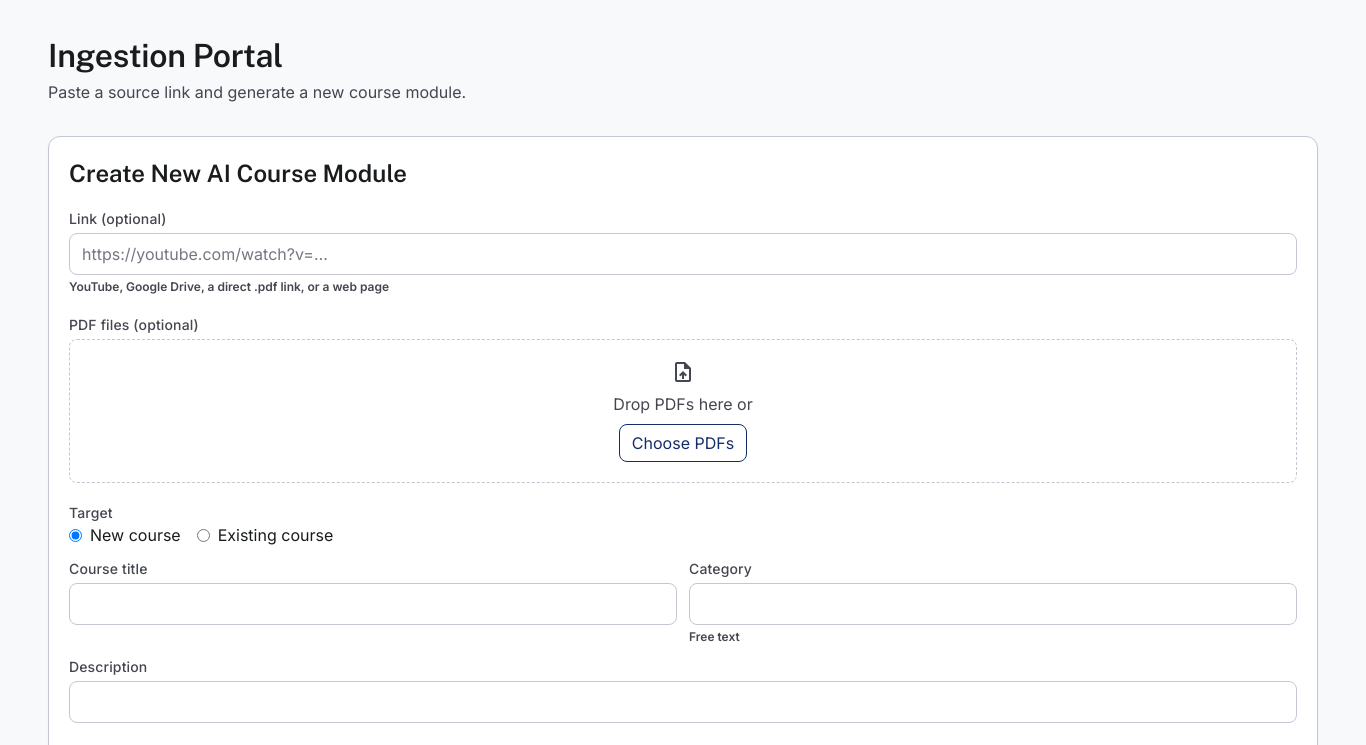
Scenario: IngestionPage PDF sources › still validates a non-empty link
This screenshot has width=1366, height=745.
Step 1. Type "not a url" into the field labelled "Link (optional)" → x=683, y=254, box top-left (69, 233), bottom-right (1297, 275)
(page scrolled)
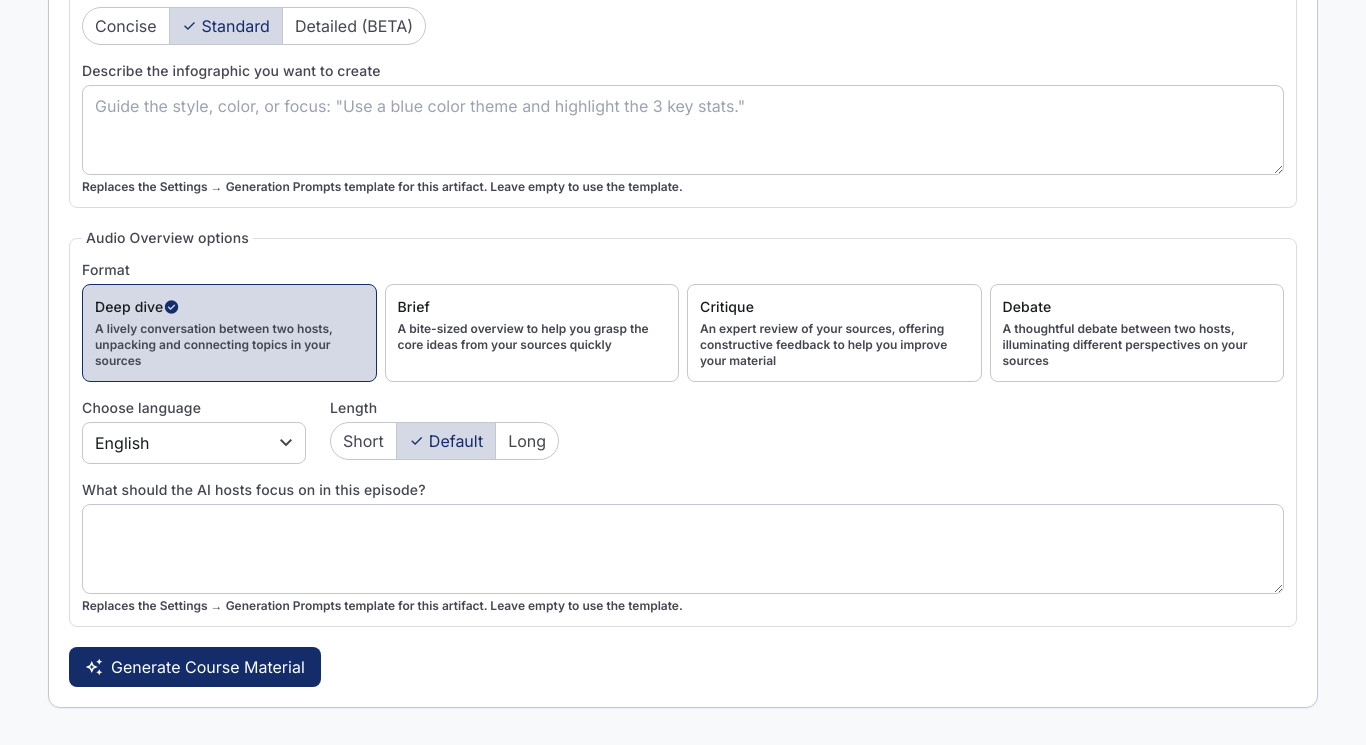
Step 2. Click the button with test id "btn-ig6" → x=195, y=667, box top-left (69, 647), bottom-right (321, 687)
(page scrolled)
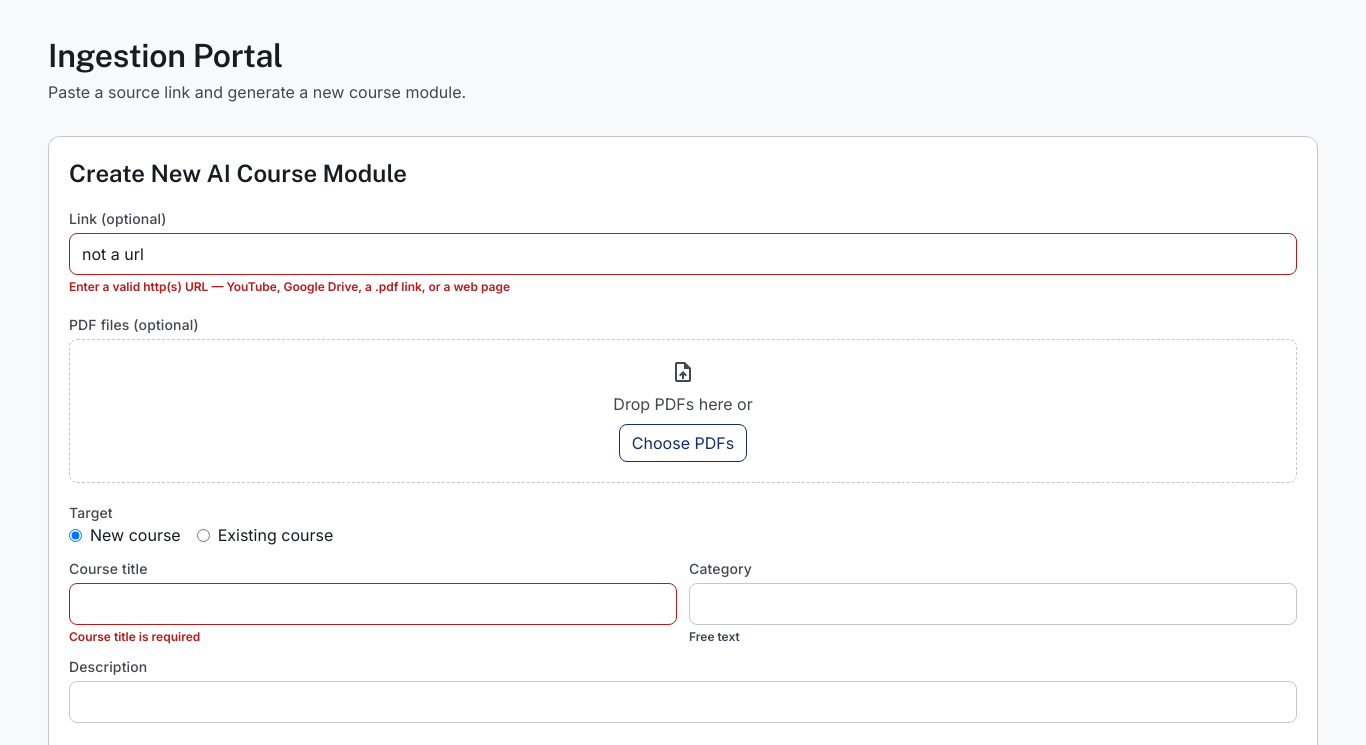
Check: the text "Enter a valid http(s) URL" is shown, box top-left (69, 279), bottom-right (510, 294)
